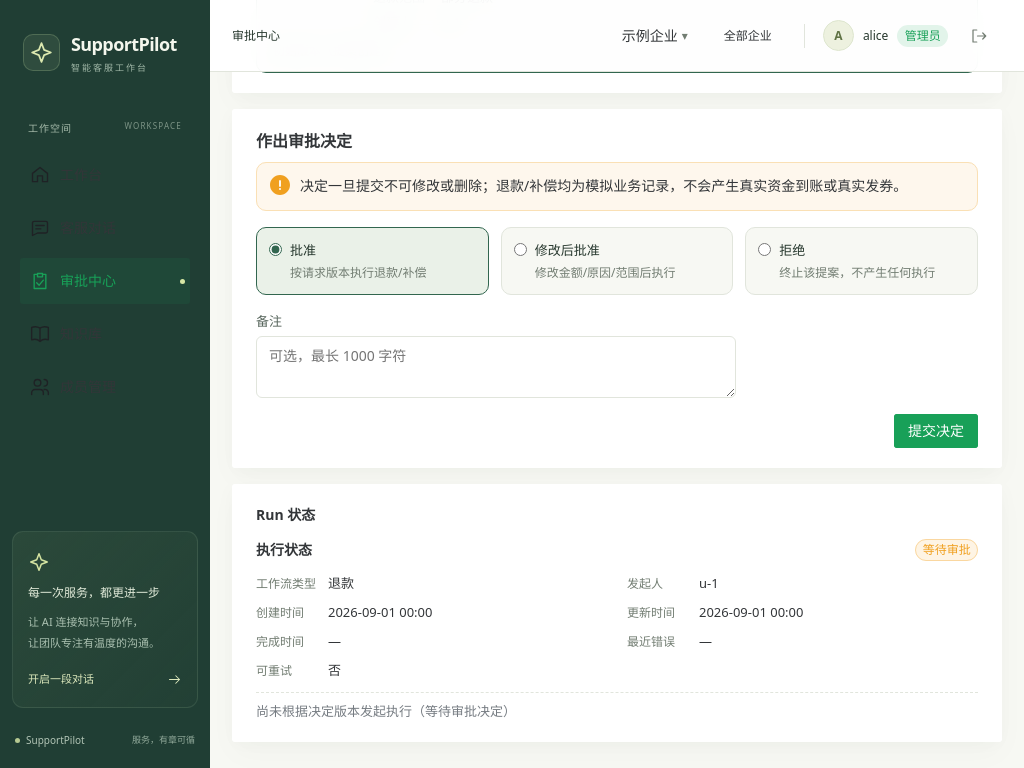
Scenario: ApprovalDetailView 决定流转 › 409：提示已被其他操作处理并刷新
This screenshot has width=1024, height=768.
(page scrolled)
Step 1. Click the button with test id "submit-decision" → x=936, y=431, box [894,414,978,448]
(page scrolled)
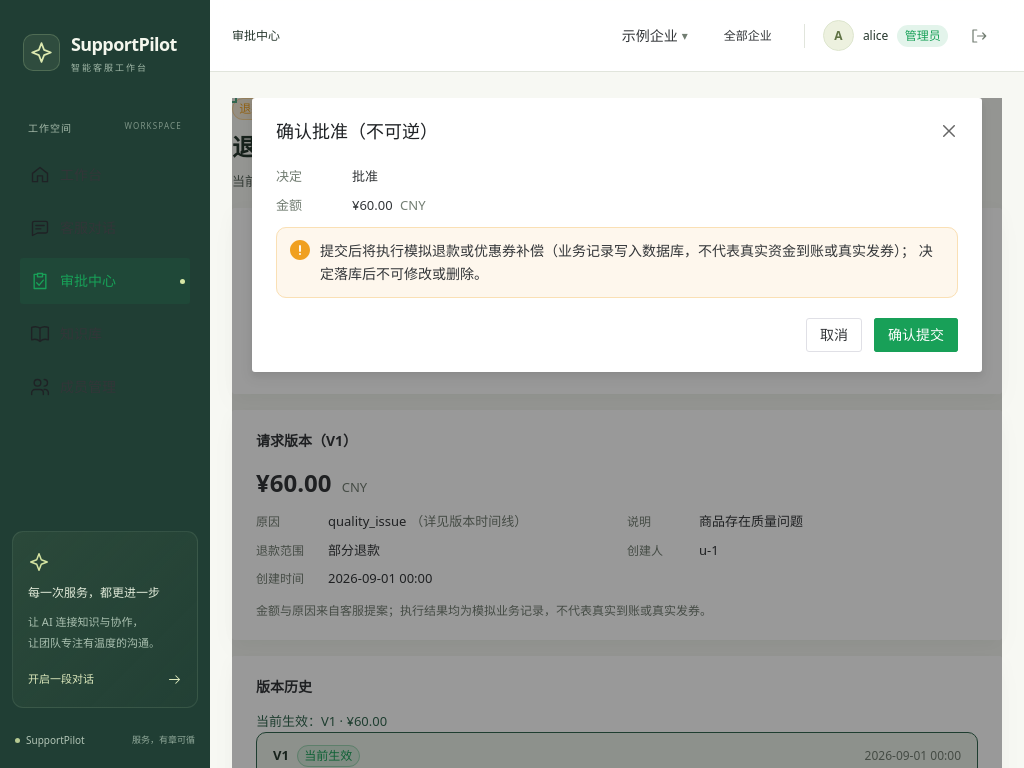
Step 2. Click the button with test id "confirm-decision" → x=916, y=335, box [874,318,958,352]
(page scrolled)
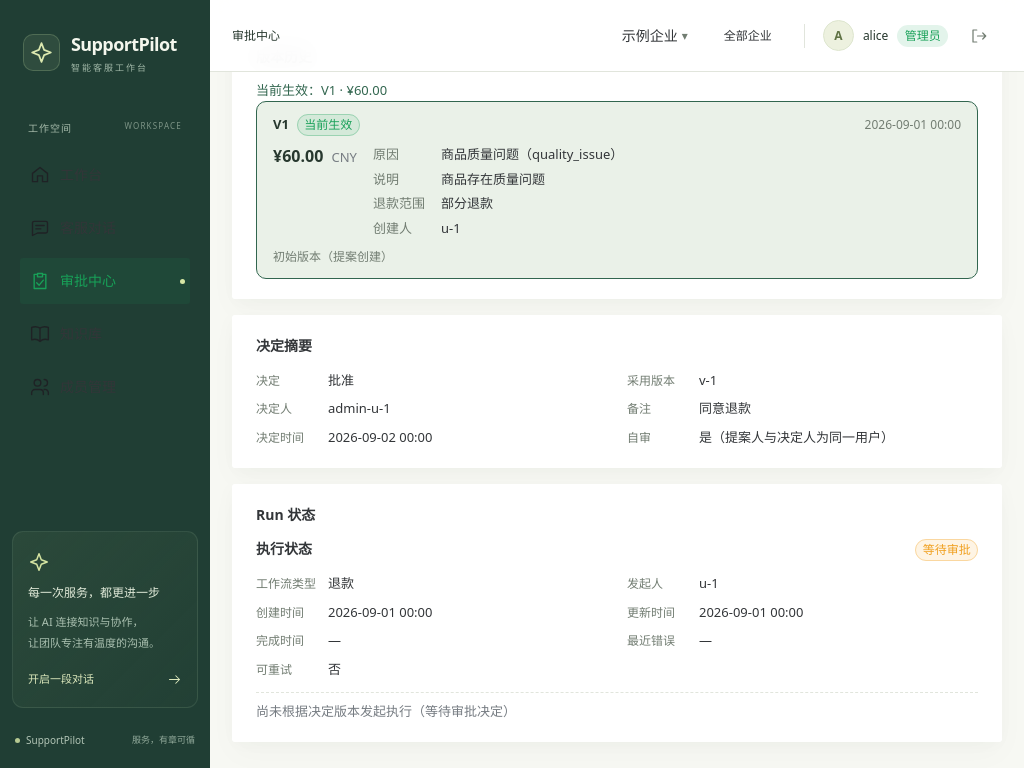
Now the element with test id "decision-summary" is shown, box [232,315,1002,468]
